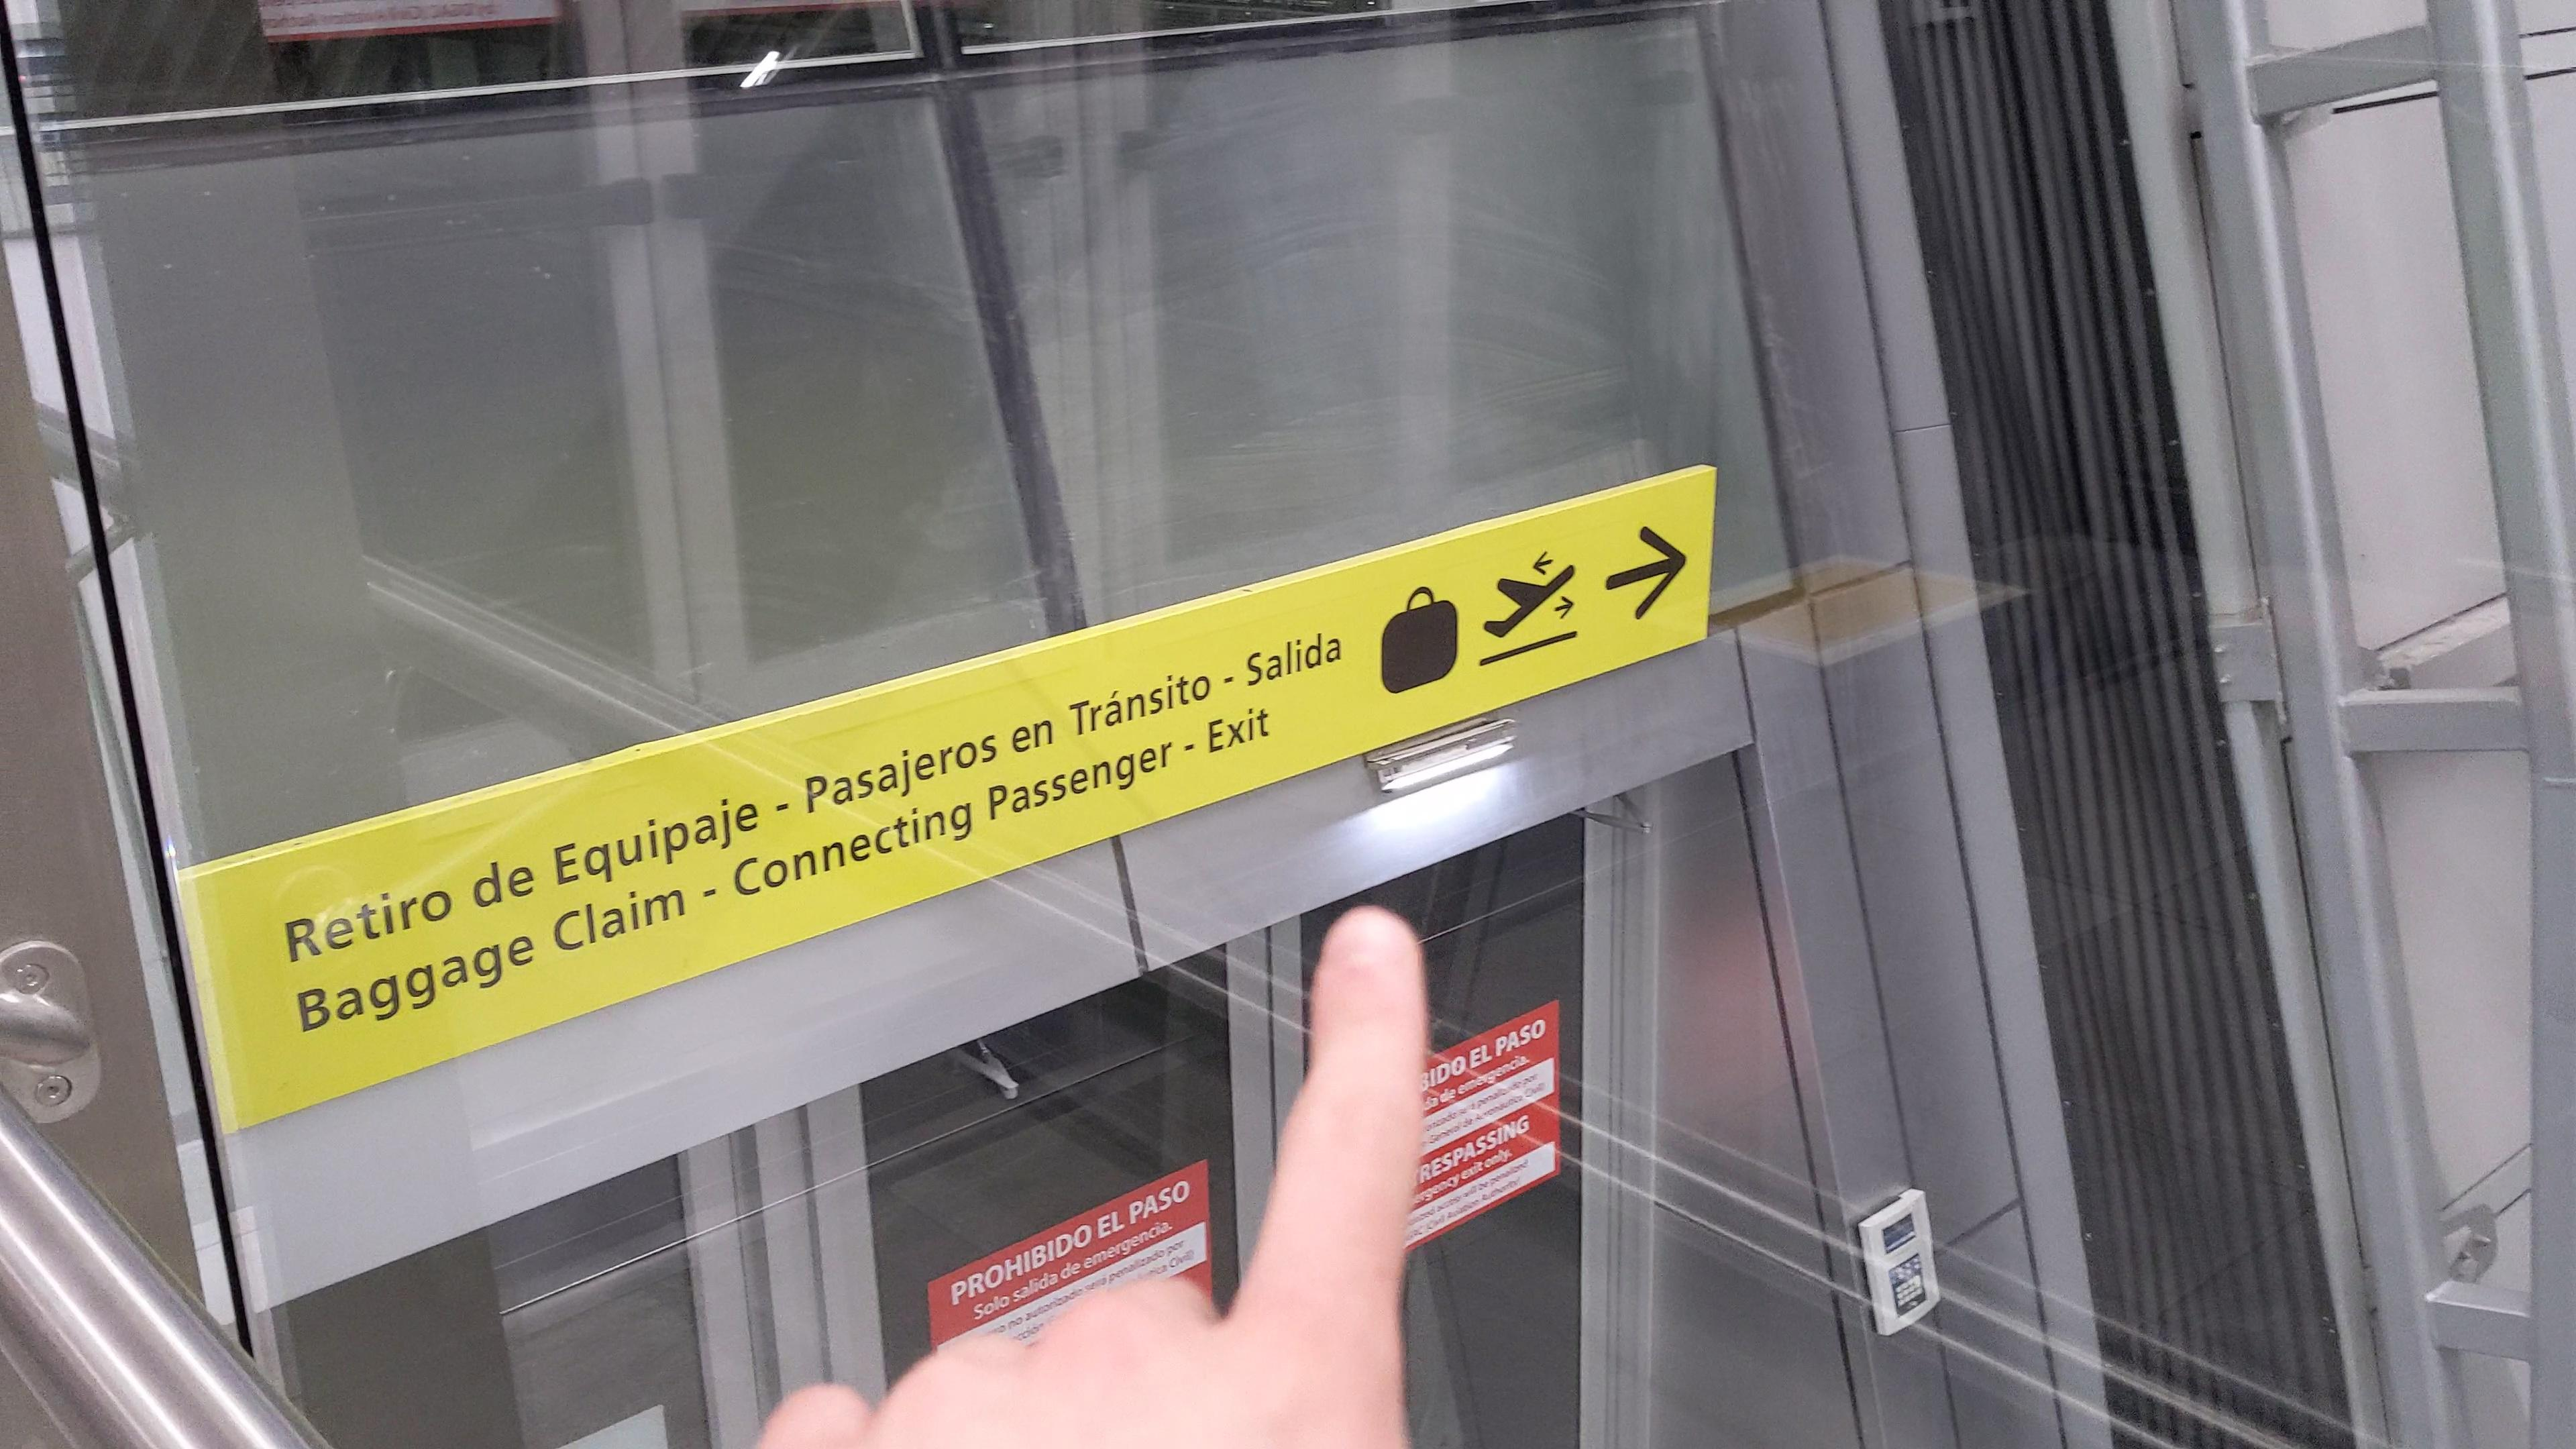airplane symbol: (1481, 550, 1580, 644)
baggage claim: (1376, 586, 1461, 699)
no trespassing: (920, 1161, 1214, 1286), (1426, 996, 1560, 1247)
thin right arrow: (1601, 522, 1691, 626)
